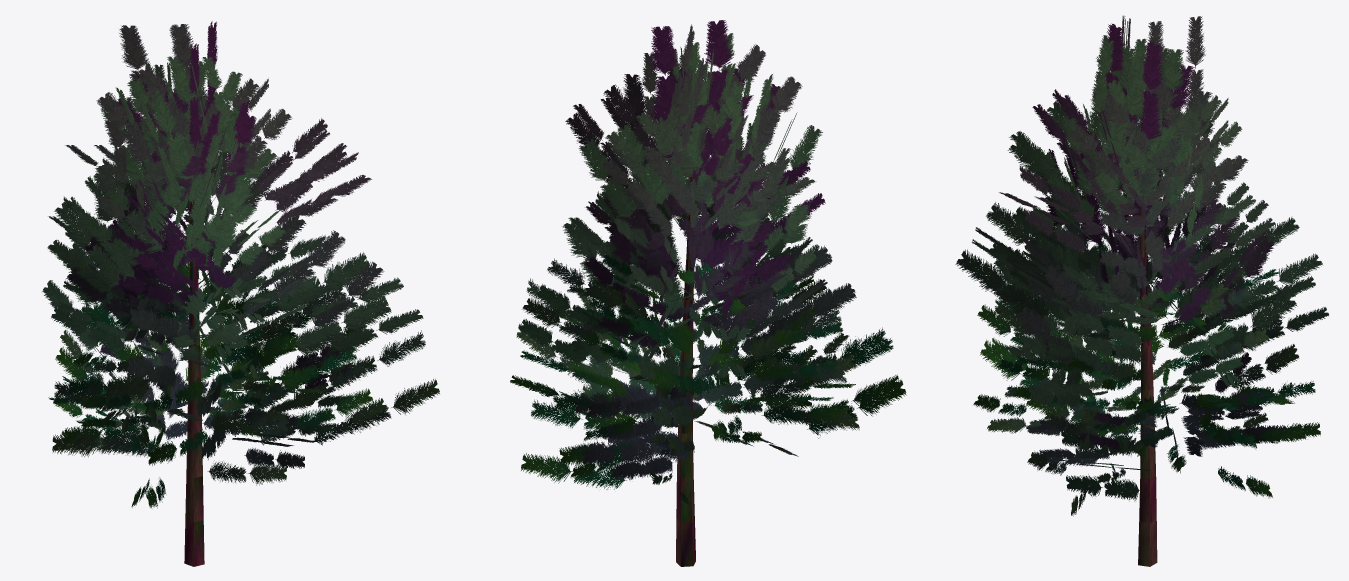
File: nat_pine_a_LOD2.glb
3 views of the same model, side by side, from view 1: azimuth 30°, elevation 25°; view 2: azimuth 150°, elevation 25°; view 3: azimuth 270°, elevation 25° (orthographic).
Parts seen in each view (by area): view 1: nat_pine_a_LOD2; view 2: nat_pine_a_LOD2; view 3: nat_pine_a_LOD2.
Boxes of the visible parts, bbox=[...] form: nat_pine_a_LOD2: bbox=[42, 21, 439, 566]; nat_pine_a_LOD2: bbox=[510, 20, 906, 566]; nat_pine_a_LOD2: bbox=[955, 15, 1328, 566].
Bounding box in the file's own units: 10.11 × 13.62 × 8.92.
2 materials, 2 textured.
